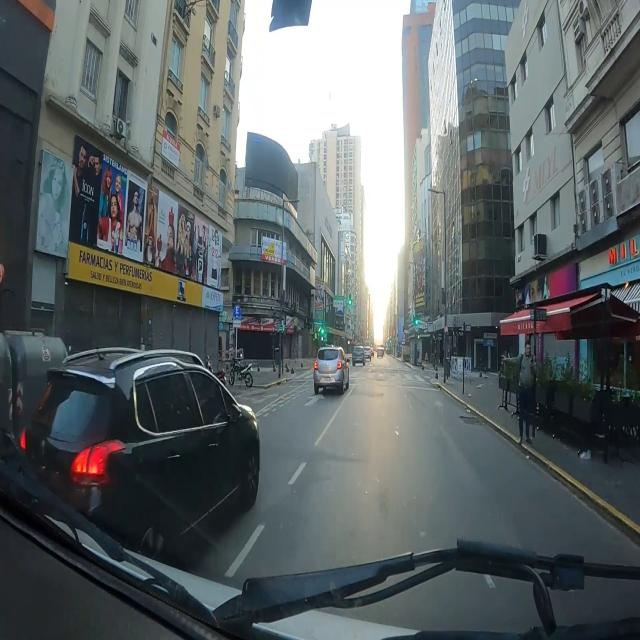car: (20, 349, 259, 557), (314, 347, 349, 394), (352, 346, 366, 365), (377, 347, 384, 357)
motorcycle: (230, 360, 252, 388), (206, 355, 226, 385)
